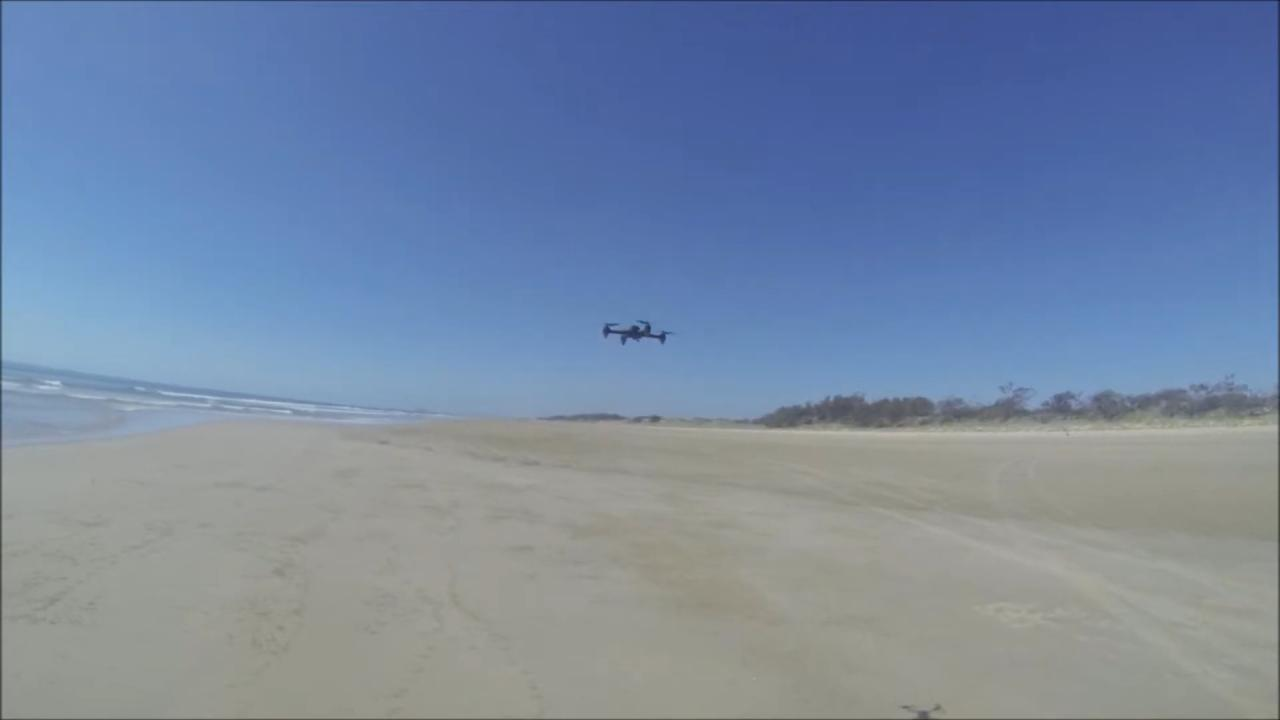Drone: (594, 312, 684, 355)
